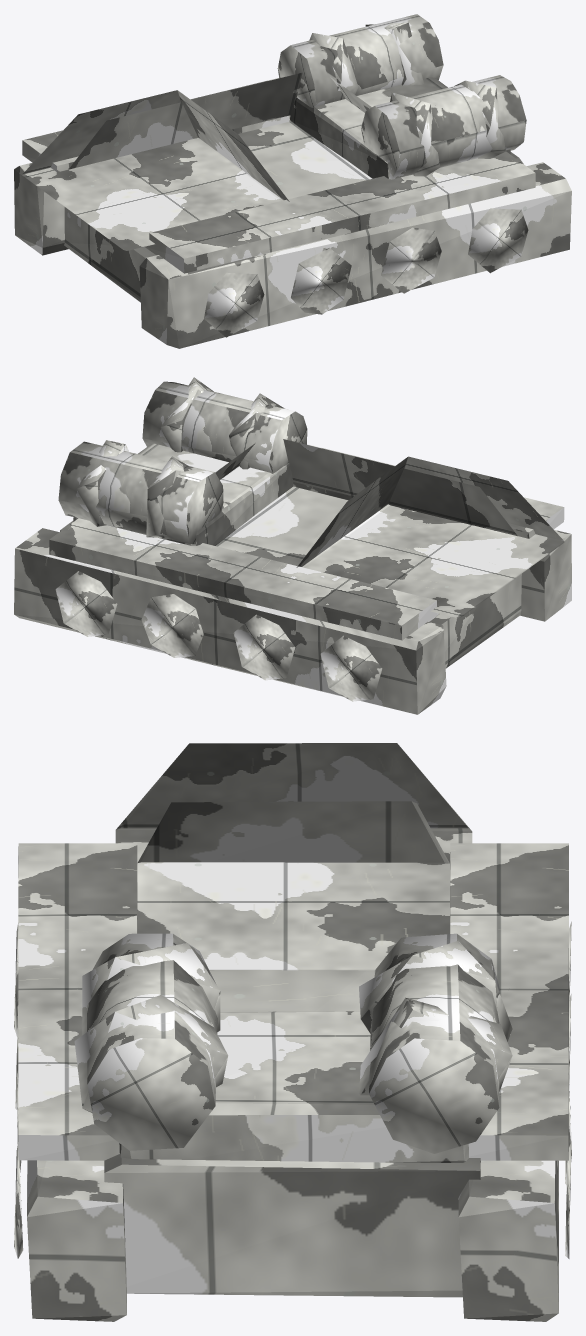
Rendered from flame_tank_body_lod.glb.
The picture shows the model from 3 angles, top to bottom: view 1: azimuth 30°, elevation 25°; view 2: azimuth 150°, elevation 25°; view 3: azimuth 270°, elevation 25°; orthographic projection. The views are drawn at different scales.
Visible parts, largest first — view 1: flame_tank_body_lod; view 2: flame_tank_body_lod; view 3: flame_tank_body_lod.
Part boxes in pixels (box(x1,y1,x2,y2)): flame_tank_body_lod: box(14, 14, 571, 348); flame_tank_body_lod: box(14, 377, 571, 714); flame_tank_body_lod: box(14, 743, 571, 1321).
Bounding box in the file's own units: 3.07 × 1.12 × 2.07.
1 material, 1 textured.
